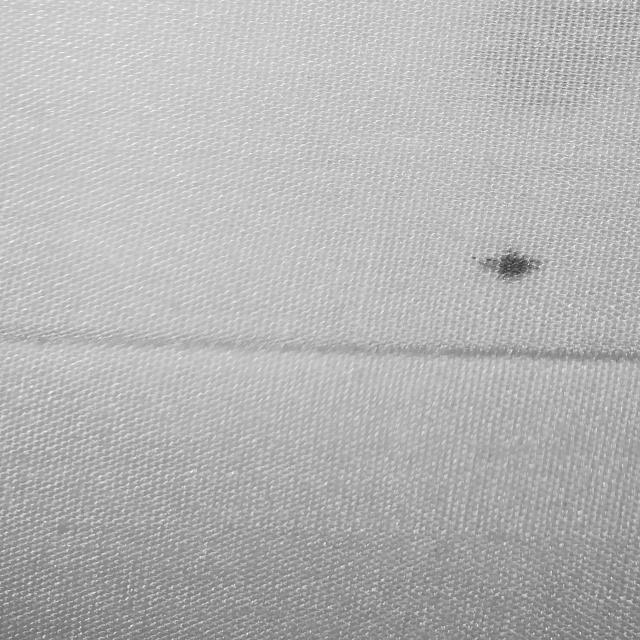Line: (0, 333, 640, 363), (471, 247, 549, 281)
